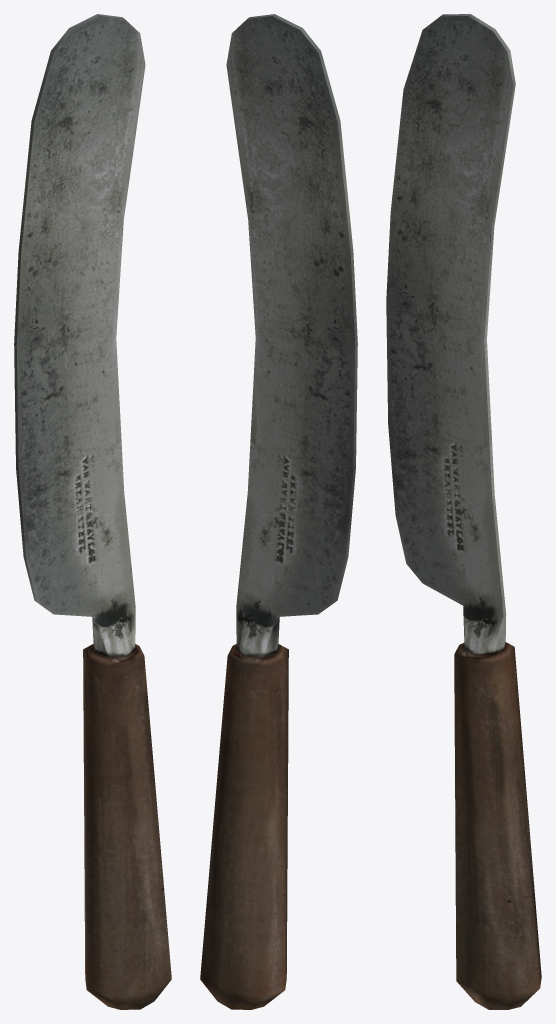
Rendered from SM_PRP_Knife_Misc_02_A.glb.
3 views of the same model, side by side, from view 1: azimuth 30°, elevation 25°; view 2: azimuth 150°, elevation 25°; view 3: azimuth 330°, elevation 25° (orthographic).
Visible parts, largest first — view 1: SM_PRP_Knife_Misc_02_A; view 2: SM_PRP_Knife_Misc_02_A; view 3: SM_PRP_Knife_Misc_02_A.
Boxes of the visible parts, left/top/right/bottom form: SM_PRP_Knife_Misc_02_A: left=14, top=14, right=171, bottom=1009; SM_PRP_Knife_Misc_02_A: left=200, top=14, right=357, bottom=1009; SM_PRP_Knife_Misc_02_A: left=386, top=14, right=541, bottom=1009.
Size of the model in its own units: 0.0377 by 0.2316 by 0.0135.
1 material, 1 textured.
